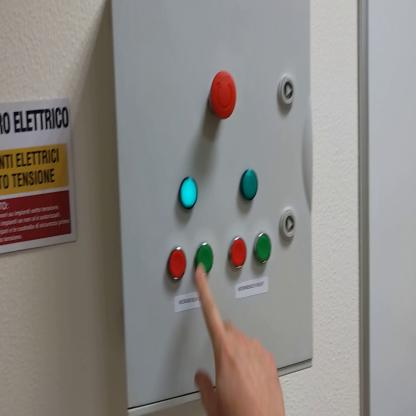hand: (192, 270, 287, 413)
left green button: (196, 242, 213, 278)
left red button: (167, 245, 189, 287)
right green button: (253, 236, 275, 268)
right red button: (230, 239, 249, 268)
